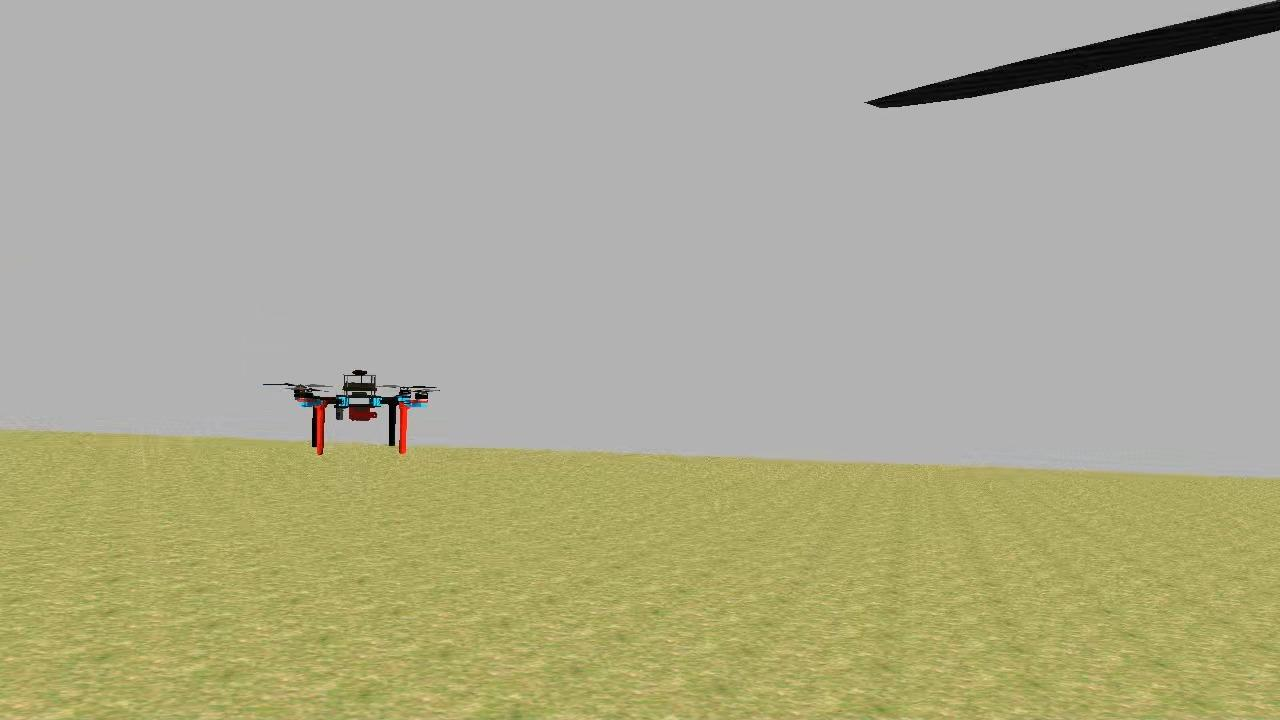UAV: (288, 360, 438, 456)
